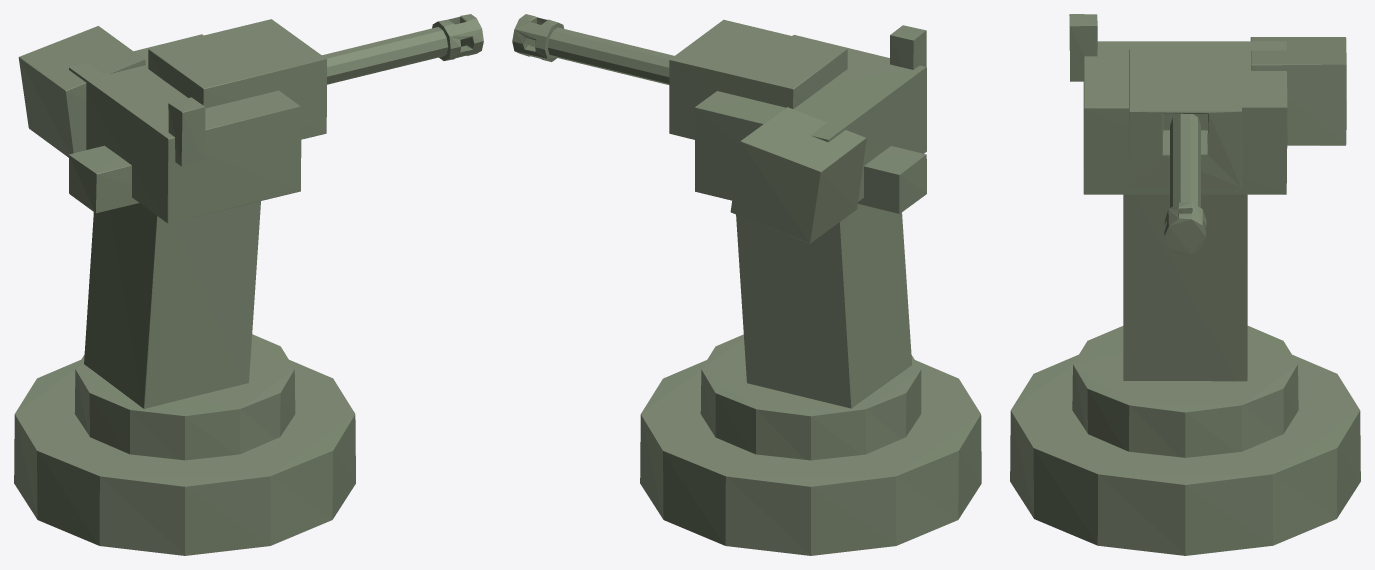
The model's file is turret_fr.lod1.glb.
The picture shows the model from 3 angles, left to right: view 1: azimuth 30°, elevation 25°; view 2: azimuth 150°, elevation 25°; view 3: azimuth 270°, elevation 25°; orthographic projection. The views are drawn at different scales.
Bounding box in the file's own units: 1.83 × 1.71 × 1.24.
